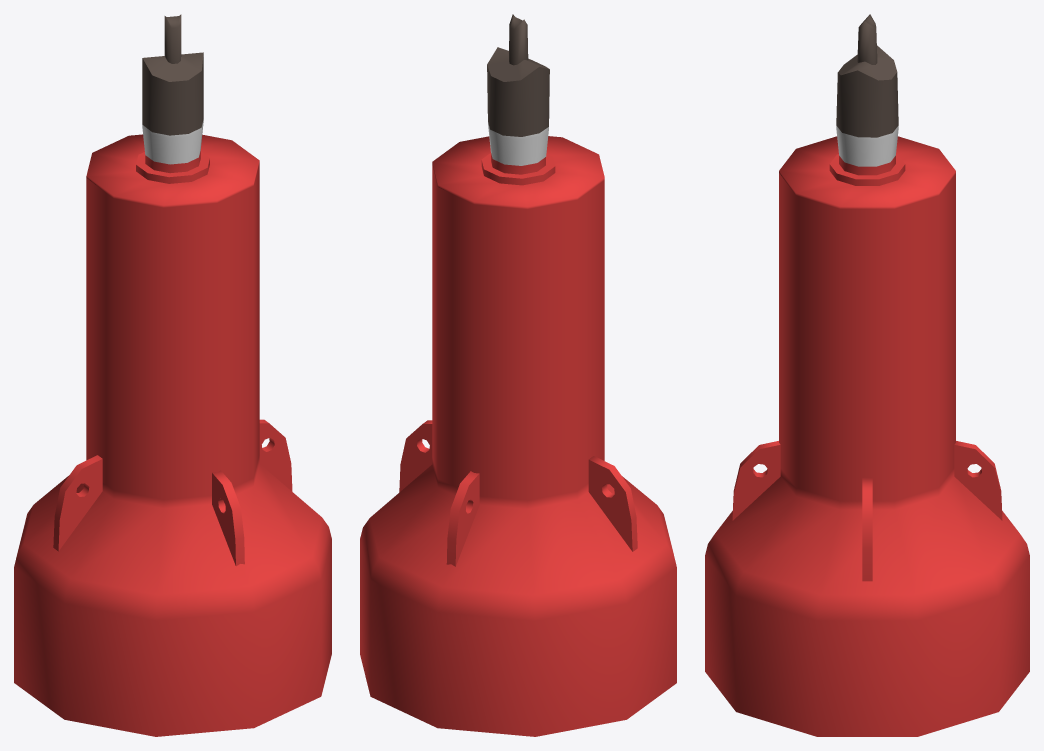
File: Buoy.fbx
3 views of the same model, side by side, from view 1: azimuth 30°, elevation 25°; view 2: azimuth 150°, elevation 25°; view 3: azimuth 270°, elevation 25° (orthographic).
Visible parts, largest first — view 1: Cylinder.006; view 2: Cylinder.006; view 3: Cylinder.006.
Part boxes in pixels (x1,y1,x2,y2): Cylinder.006: (14, 14, 331, 736); Cylinder.006: (360, 14, 676, 736); Cylinder.006: (705, 14, 1029, 736).
Bounding box in the file's own units: 349 × 816 × 367.
